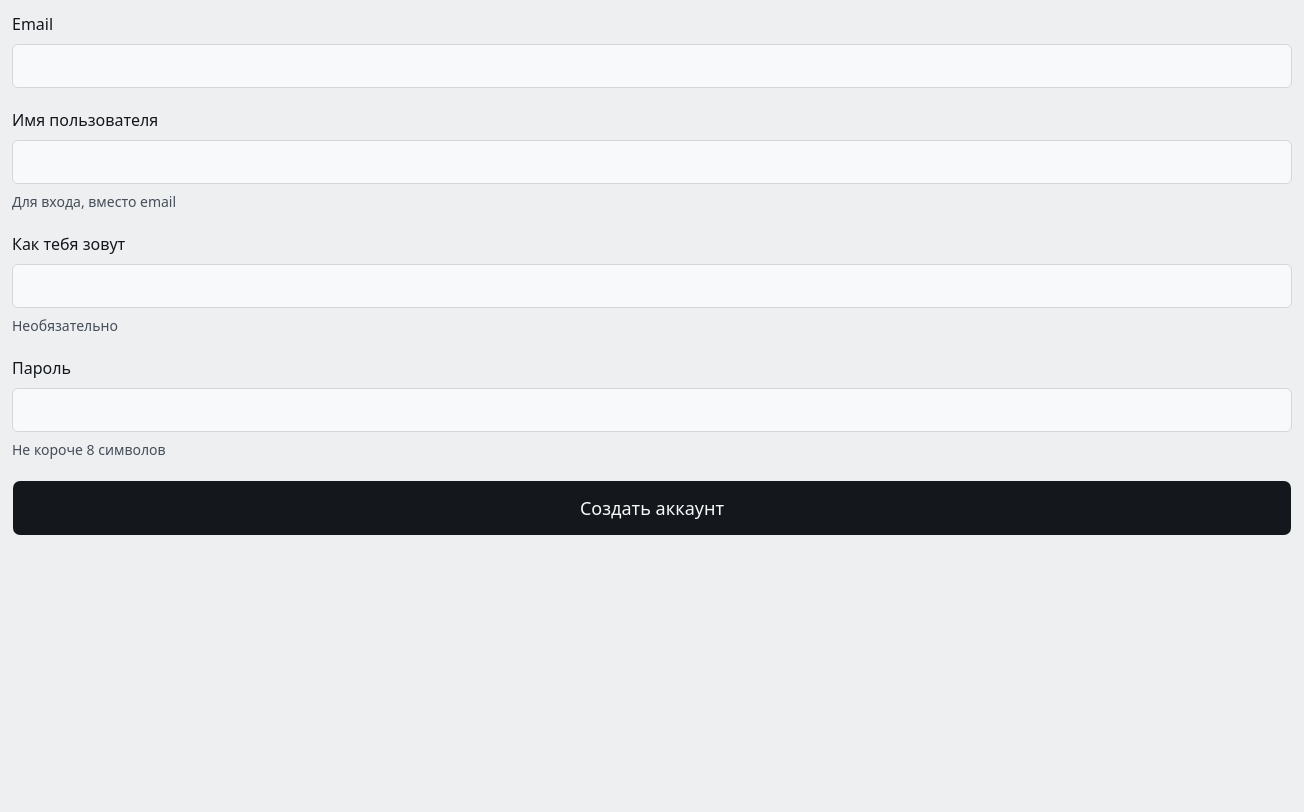
Test: shows Russian validation messages and does not submit invalid data
The width and height of the screenshot is (1304, 812).
Type "not-an-email" into the field labelled "Email". click: (652, 66)
box: [12,44,1292,88]
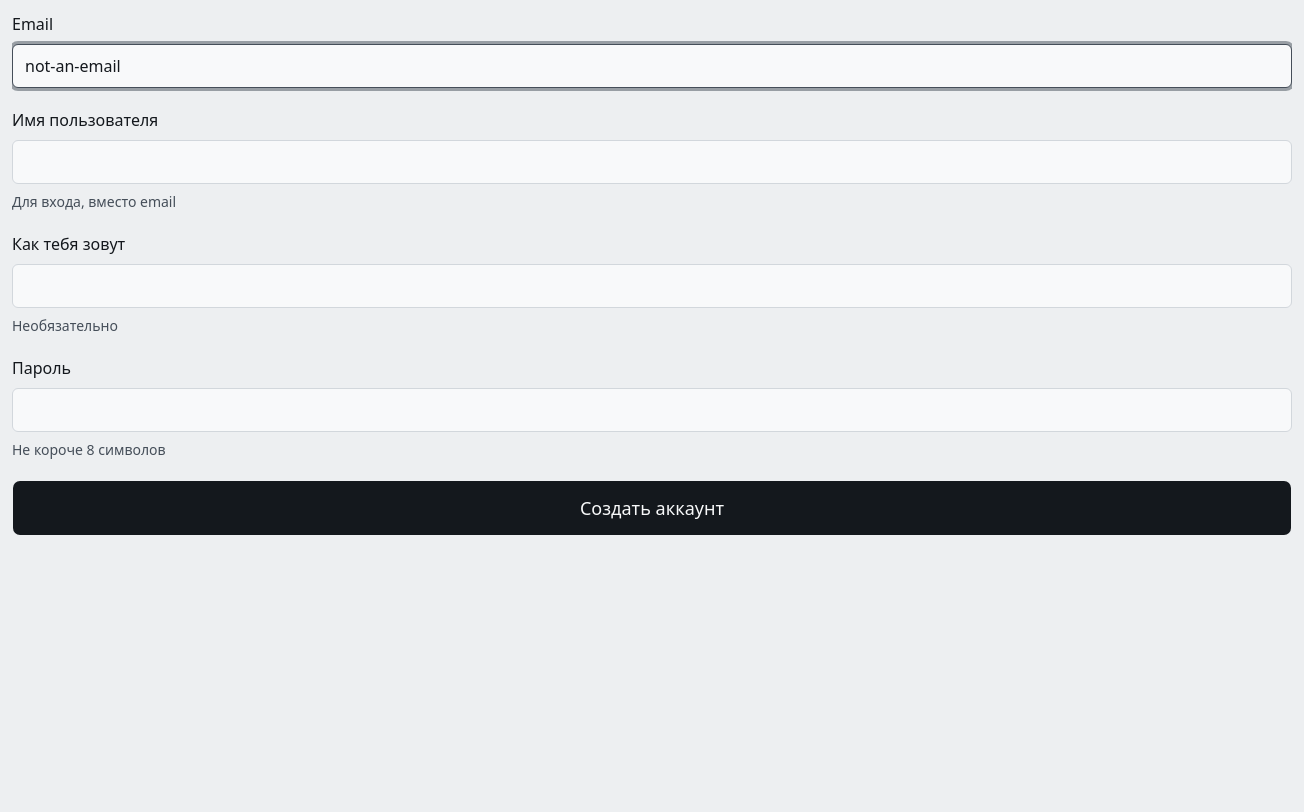
Type "al" into the field labelled "Имя пользователя". click: (652, 162)
box: [12,140,1292,184]
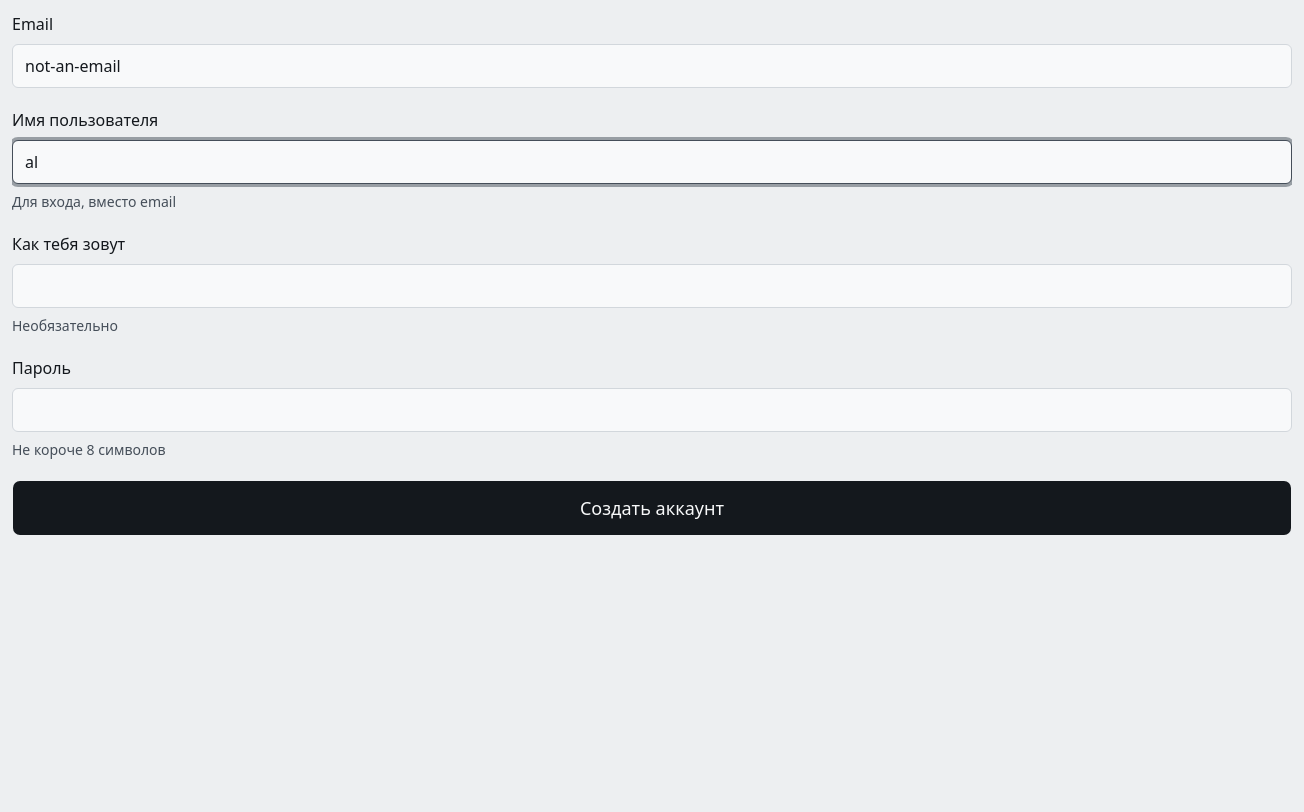
Type "short" into the password field labelled "Пароль". click: (652, 410)
box: [12,388,1292,432]
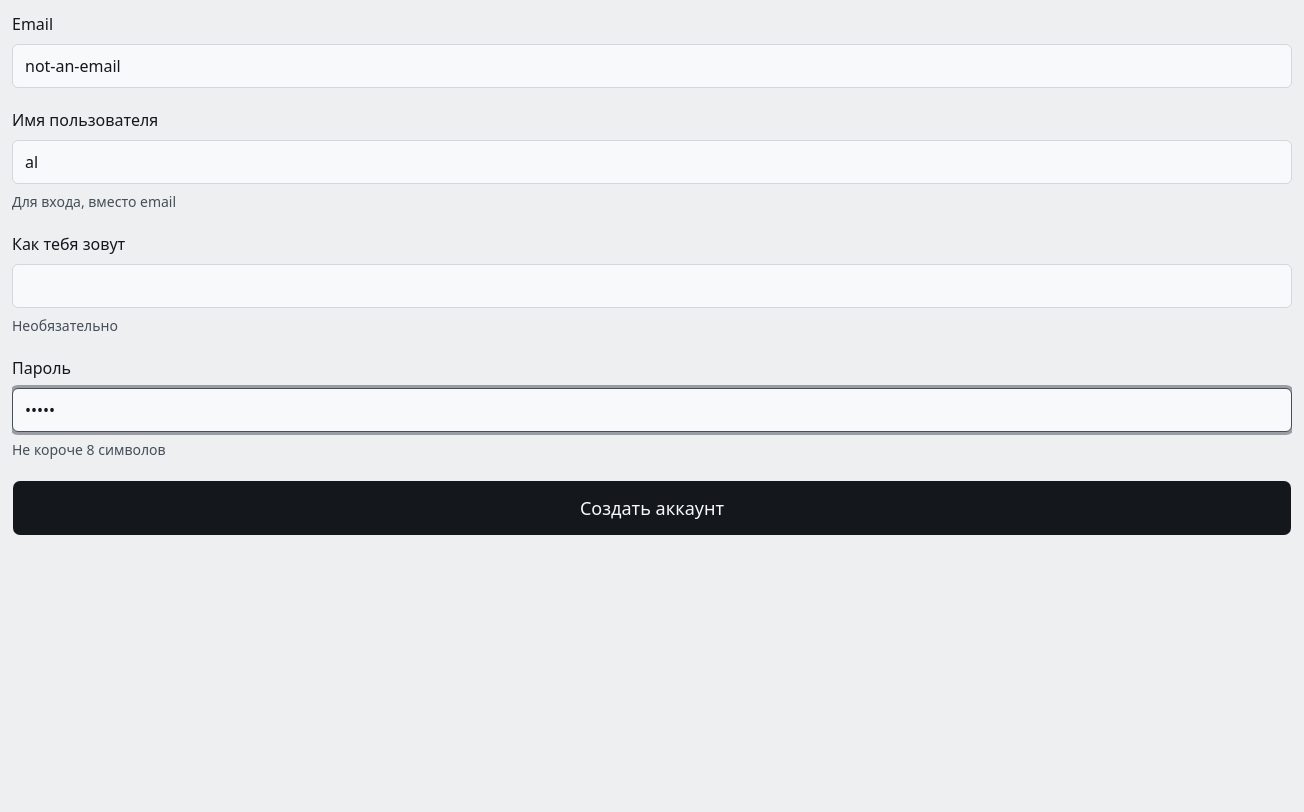
Click the button "Создать аккаунт". click: (652, 508)
box: [12,480,1292,536]
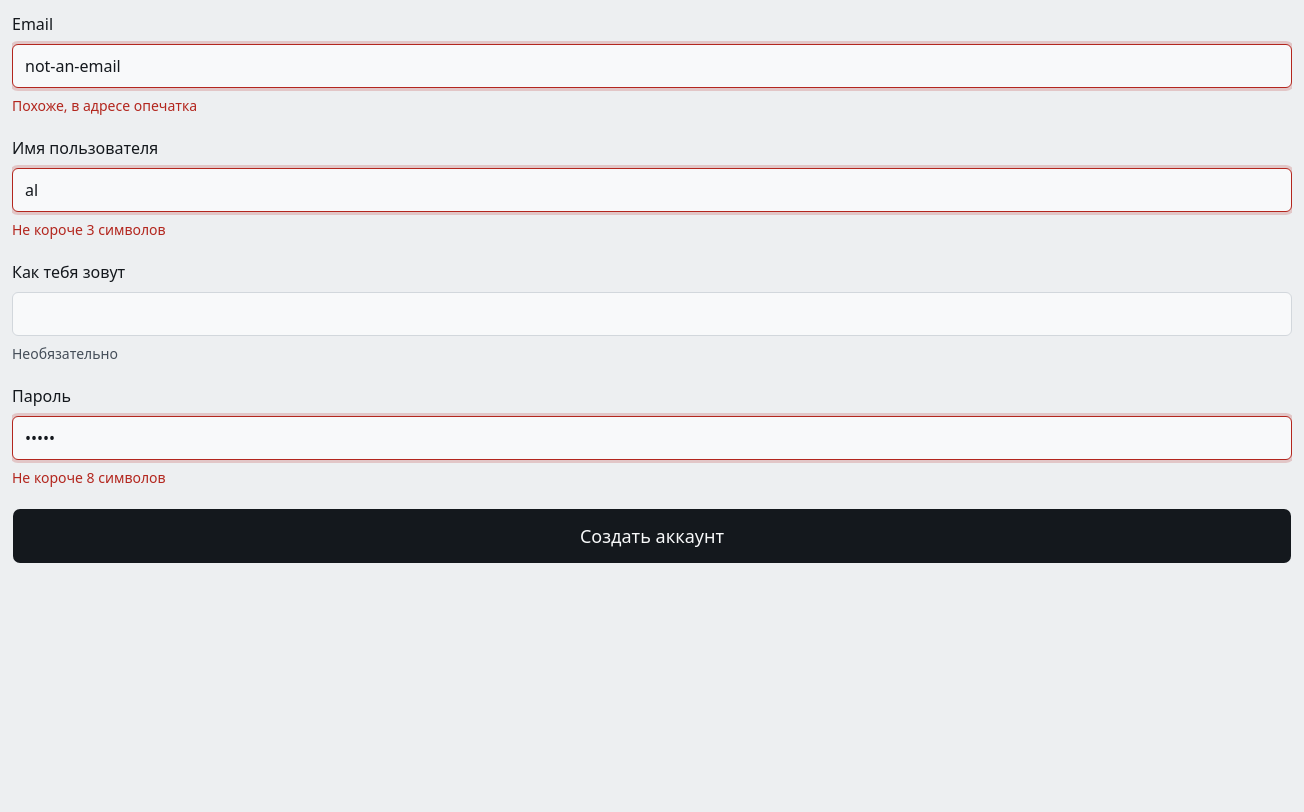
Now the text "Похоже, в адресе опечатка" is shown, box [12,96,197,115]
Now the text "Не короче 3 символов" is shown, box [12,220,166,239]
